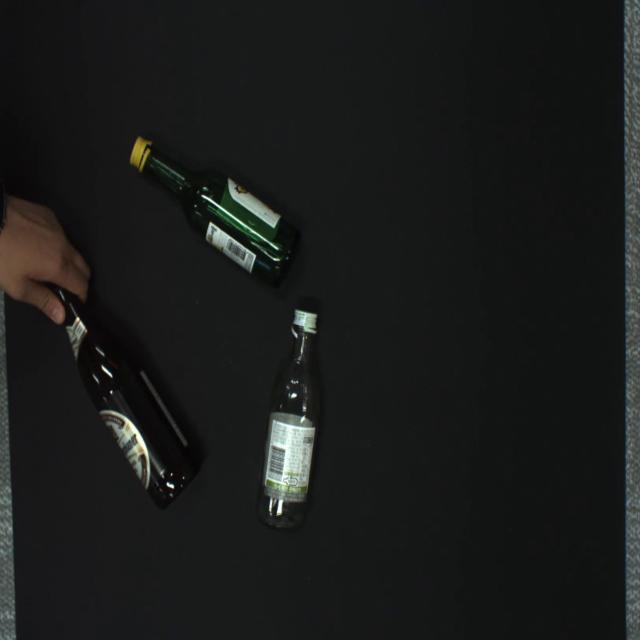beer-bottle: (50, 284, 201, 510)
soju-bottle: (129, 135, 301, 287), (255, 309, 322, 532)
